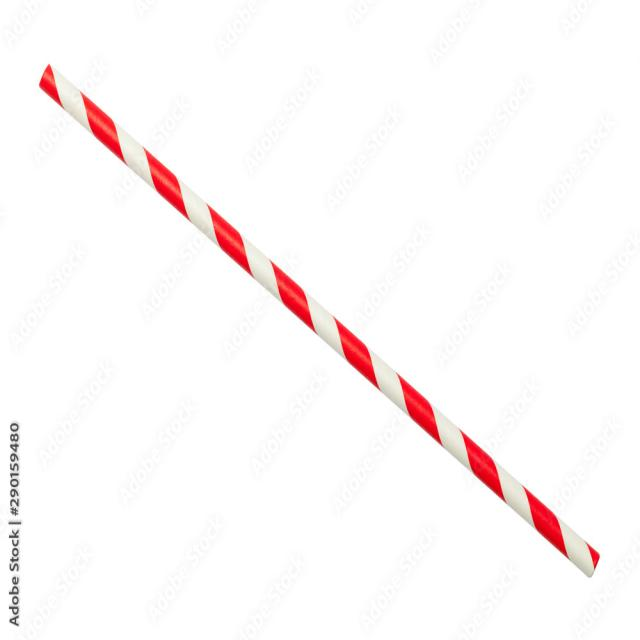plastic: (27, 29, 606, 586)
